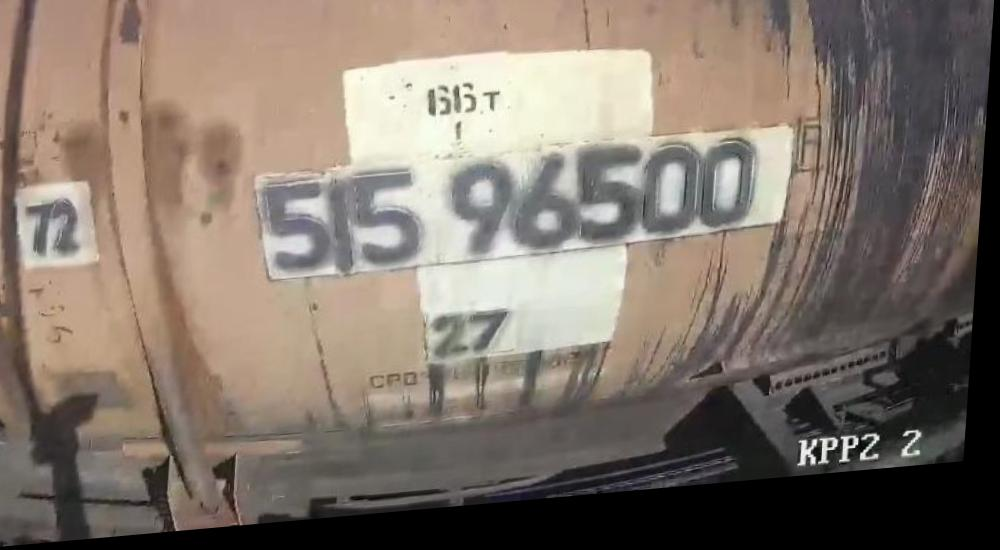Wagon-number: (255, 143, 770, 289)
